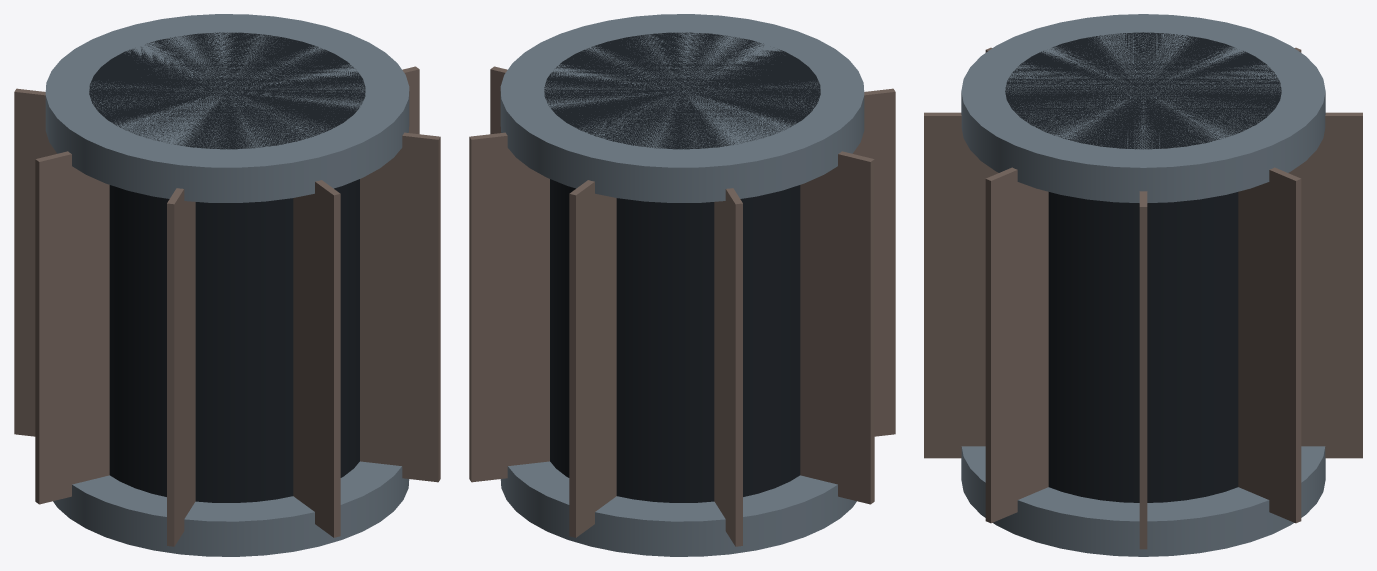
The model's file is perseverance_power_comms.mmrtg.glb.
The picture shows the model from 3 angles, left to right: view 1: azimuth 30°, elevation 25°; view 2: azimuth 150°, elevation 25°; view 3: azimuth 270°, elevation 25°; orthographic projection.
Parts seen in each view (by area): view 1: perseverance_power_comms.mmrtg.mesh_Heat-stained_alloy, perseverance_power_comms.mmrtg.mesh_Carbon_composite, perseverance_power_comms.mmrtg.mesh_Machined_steel; view 2: perseverance_power_comms.mmrtg.mesh_Heat-stained_alloy, perseverance_power_comms.mmrtg.mesh_Carbon_composite, perseverance_power_comms.mmrtg.mesh_Machined_steel; view 3: perseverance_power_comms.mmrtg.mesh_Heat-stained_alloy, perseverance_power_comms.mmrtg.mesh_Carbon_composite, perseverance_power_comms.mmrtg.mesh_Machined_steel.
Boxes of the visible parts, x1,y1,x2,y2 form: perseverance_power_comms.mmrtg.mesh_Heat-stained_alloy: [14, 66, 440, 546]; perseverance_power_comms.mmrtg.mesh_Carbon_composite: [89, 32, 365, 502]; perseverance_power_comms.mmrtg.mesh_Machined_steel: [45, 14, 409, 556]; perseverance_power_comms.mmrtg.mesh_Heat-stained_alloy: [469, 66, 895, 546]; perseverance_power_comms.mmrtg.mesh_Carbon_composite: [544, 32, 820, 502]; perseverance_power_comms.mmrtg.mesh_Machined_steel: [500, 14, 864, 556]; perseverance_power_comms.mmrtg.mesh_Heat-stained_alloy: [924, 47, 1362, 549]; perseverance_power_comms.mmrtg.mesh_Carbon_composite: [1005, 32, 1281, 502]; perseverance_power_comms.mmrtg.mesh_Machined_steel: [961, 14, 1325, 556].
Size of the model in its own units: 0.6748 by 0.66 by 0.6748.
